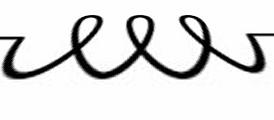inductor: (2, 6, 261, 97)
